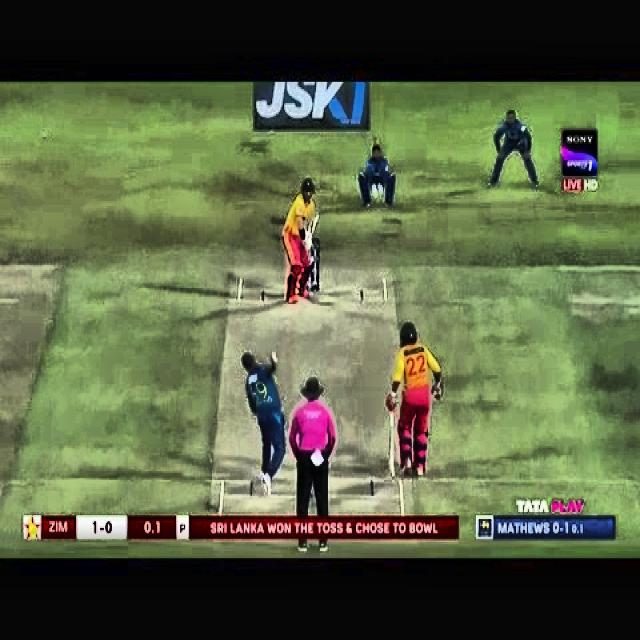Middle-stump: (311, 251, 314, 291)
Right-stump: (317, 240, 319, 292)
